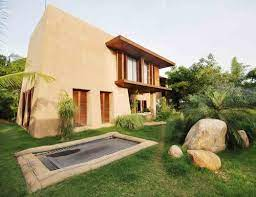Mud House: (9, 5, 180, 148)
